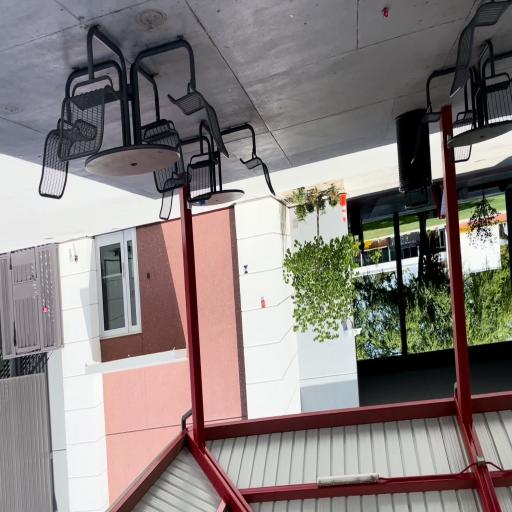target9: (243, 265, 248, 273)
